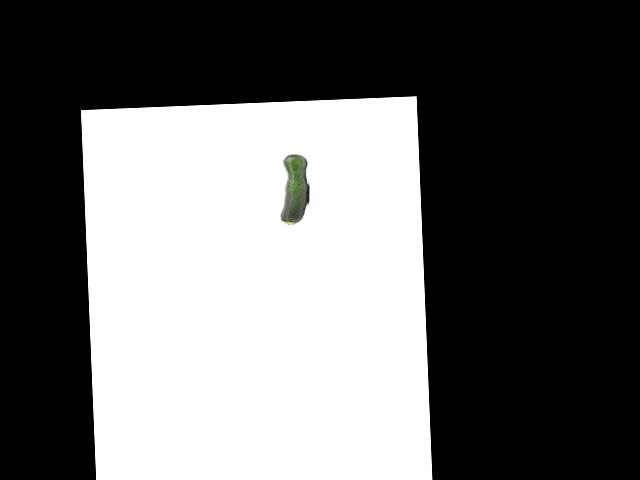cucumber: (278, 154, 310, 225)
